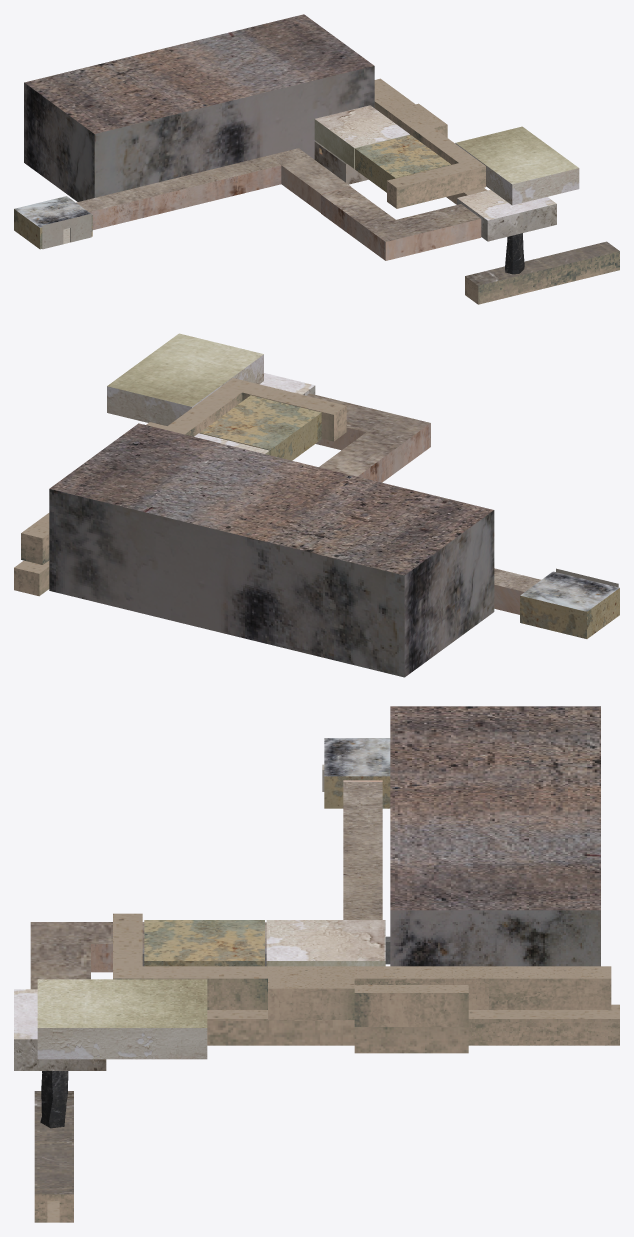
The model's file is scene 2 complete.fbx.
3 views of the same model, one above another, from view 1: azimuth 30°, elevation 25°; view 2: azimuth 150°, elevation 25°; view 3: azimuth 270°, elevation 25° (orthographic). The views are drawn at different scales.
Visible parts, largest first — view 1: warehouse, ww_storage, ww_maintainance, r_manager, ww_b2_sewer, ww_f2_corner, r_archieve, r_maintainance, r_storagte, r_staff, ww_maintance_corner, ww_stari_connector (+3 smaller); view 2: warehouse, r_manager, ww_storage, r_maintainance, r_staff, ww_f2_corner, ww_maintainance, ww_f2_glass_watcher, ww_warehouse, r_storagte; view 3: warehouse, r_manager, ww_warehouse, ww_f2_glass_watcher, r_staff, r_archieve, ww_maintainance, ww_f2_corner, ww_stair, ww_storage, ww_stari_connector, ww_b2_sewer (+3 smaller).
Boxes of the visible parts, box(x1,y1,x2,y2) form: warehouse: box(24, 14, 374, 201); ww_storage: box(321, 187, 481, 260); ww_maintainance: box(76, 155, 281, 229); r_manager: box(455, 126, 579, 205); ww_b2_sewer: box(465, 241, 619, 304); ww_f2_corner: box(387, 128, 485, 208); r_archieve: box(314, 105, 410, 168); r_maintainance: box(14, 196, 92, 249); r_storagte: box(457, 189, 556, 241); r_staff: box(355, 135, 451, 192); ww_maintance_corner: box(268, 148, 350, 212); ww_stari_connector: box(388, 103, 447, 138); warehouse: box(49, 423, 494, 677); r_manager: box(107, 333, 263, 425); ww_storage: box(306, 393, 430, 482); r_maintainance: box(520, 568, 619, 638); r_staff: box(199, 395, 321, 460); ww_f2_corner: box(167, 378, 346, 441); ww_maintainance: box(494, 568, 541, 614); ww_f2_glass_watcher: box(21, 513, 49, 564); ww_warehouse: box(14, 560, 49, 596); r_storagte: box(260, 373, 315, 395); warehouse: box(390, 706, 600, 966); r_manager: box(37, 979, 207, 1059); ww_warehouse: box(207, 1004, 619, 1053); ww_f2_glass_watcher: box(354, 966, 611, 1009); r_staff: box(144, 920, 264, 966); r_archieve: box(266, 920, 385, 966); ww_maintainance: box(343, 780, 382, 919); ww_f2_corner: box(113, 913, 267, 1009); ww_stair: box(354, 985, 468, 1026); ww_storage: box(30, 922, 144, 989); ww_stari_connector: box(268, 966, 354, 1019); ww_b2_sewer: box(34, 1091, 73, 1222).
Bounding box in the file's own units: 135 × 39.53 × 98.41.
Materials: 10 (10 with a texture image).
